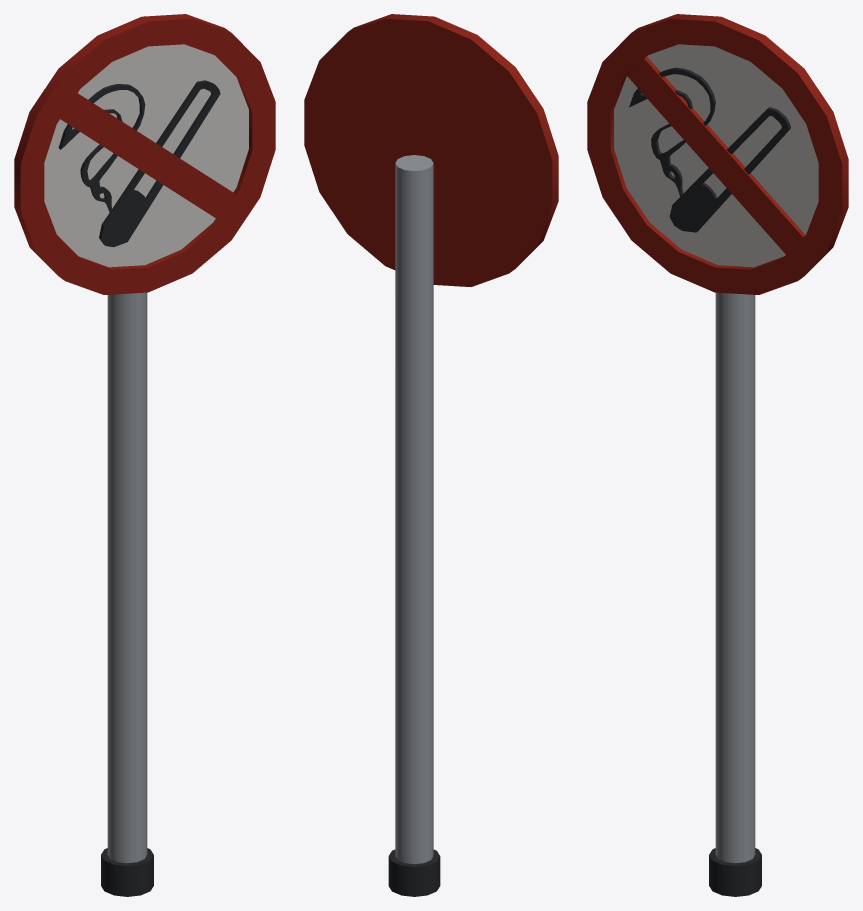
The model's file is TrafficSign_11.fbx.
The picture shows the model from 3 angles, left to right: view 1: azimuth 30°, elevation 25°; view 2: azimuth 150°, elevation 25°; view 3: azimuth 330°, elevation 25°; orthographic projection. The views are drawn at different scales.
Parts seen in each view (by area): view 1: TrafficSign_11; view 2: TrafficSign_11; view 3: TrafficSign_11.
Boxes of the visible parts, box(x1,y1,x2,y2) form: TrafficSign_11: box(14, 14, 275, 896); TrafficSign_11: box(304, 14, 558, 896); TrafficSign_11: box(587, 14, 848, 896).
Bounding box in the file's own units: 63.99 × 211 × 14.83.
